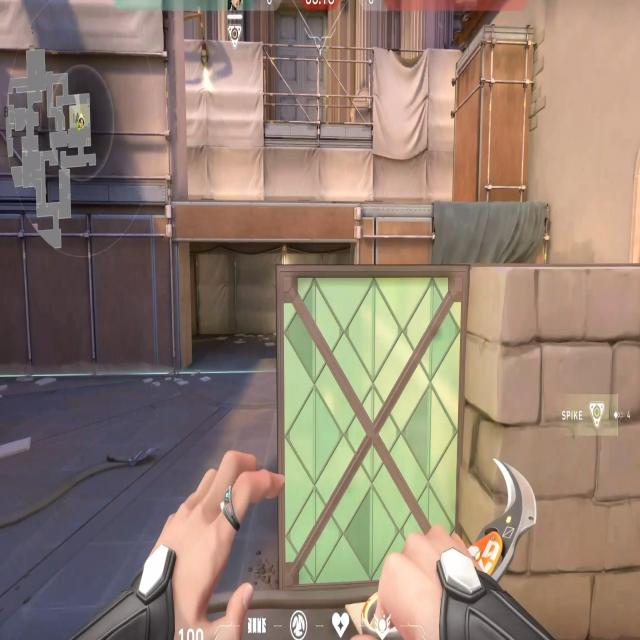A_Heaven_Box: (448, 21, 538, 208)
A_Heaven_Wall: (1, 1, 198, 219)
A_Hell: (160, 187, 385, 389)
A_Site_Box: (262, 243, 640, 634)
